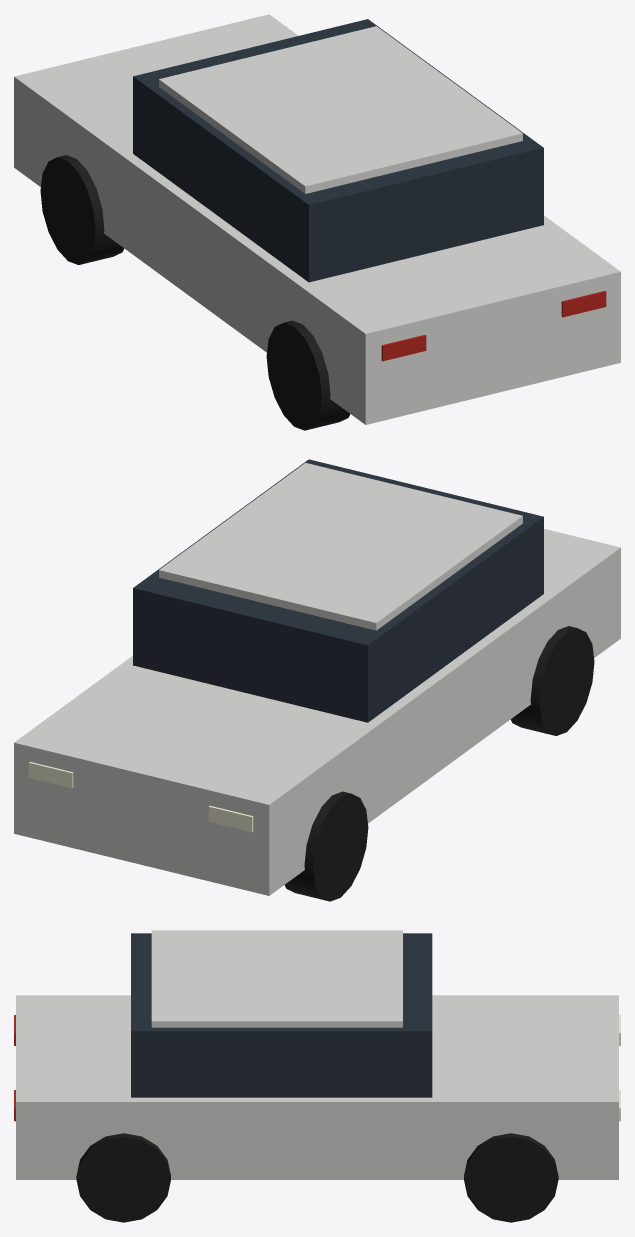
The model's file is car.obj.
3 views of the same model, one above another, from view 1: azimuth 30°, elevation 25°; view 2: azimuth 150°, elevation 25°; view 3: azimuth 270°, elevation 25° (orthographic). The views are drawn at different scales.
Parts seen in each view (by area): view 1: car_0, car_1, car_2, car_5, car_3, car_8, car_10; view 2: car_0, car_1, car_2, car_3, car_5, car_7, car_9; view 3: car_0, car_1, car_2, car_4, car_6.
Boxes of the visible parts, left/top/right/bottom form: car_0: left=14, top=14, right=620, bottom=424; car_1: left=133, top=19, right=543, bottom=282; car_2: left=159, top=26, right=522, bottom=193; car_5: left=266, top=320, right=350, bottom=430; car_3: left=40, top=155, right=124, bottom=264; car_8: left=381, top=335, right=426, bottom=361; car_10: left=561, top=291, right=606, bottom=317; car_0: left=14, top=529, right=620, bottom=895; car_1: left=133, top=459, right=543, bottom=722; car_2: left=159, top=463, right=522, bottom=630; car_3: left=284, top=791, right=368, bottom=901; car_5: left=510, top=626, right=594, bottom=735; car_7: left=208, top=805, right=253, bottom=832; car_9: left=28, top=762, right=73, bottom=788; car_0: left=16, top=995, right=618, bottom=1179; car_1: left=131, top=933, right=432, bottom=1097; car_2: left=151, top=930, right=402, bottom=1027; car_4: left=464, top=1133, right=558, bottom=1222; car_6: left=76, top=1133, right=170, bottom=1222.
Bounding box in the file's own units: 1.88 × 1.46 × 4.23.
